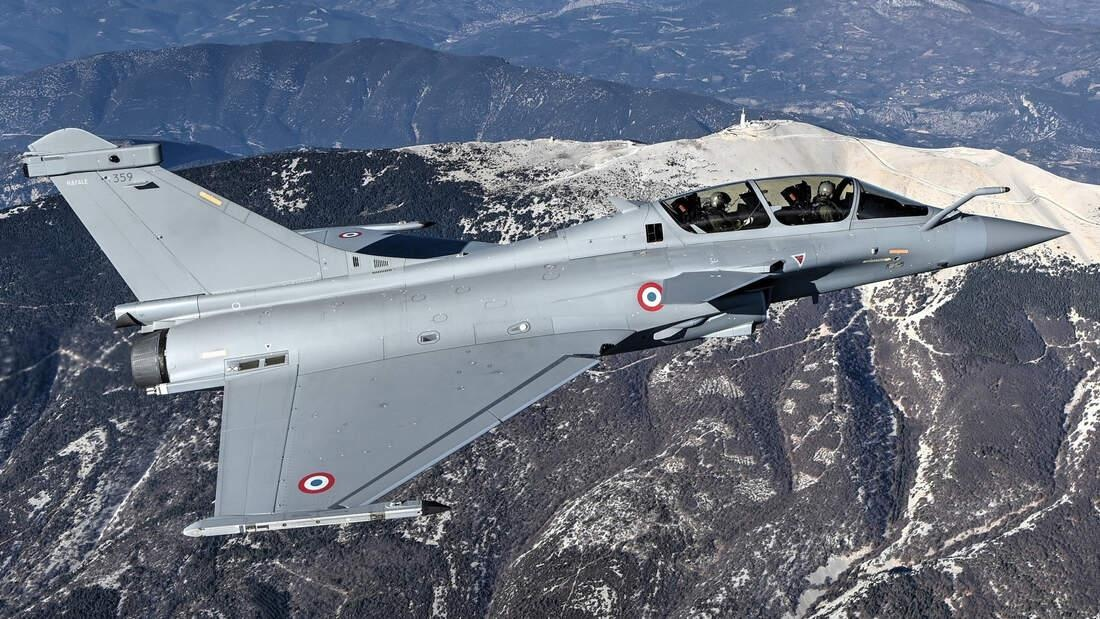aircraft: (44, 162, 1100, 544)
